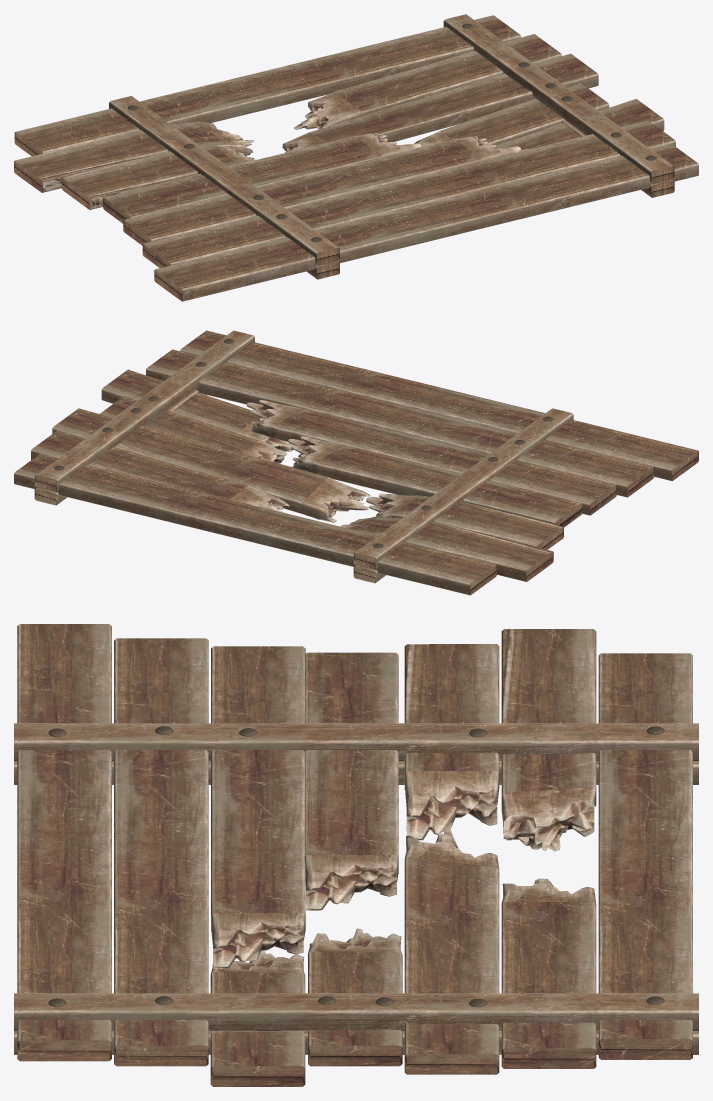
3 renders of one model, top to bottom at view 1: azimuth 30°, elevation 25°; view 2: azimuth 150°, elevation 25°; view 3: azimuth 270°, elevation 25°, orthographic. The views are drawn at different scales.
Parts seen in each view (by area): view 1: SM_BrokenWood_Platform_01_LOD0; view 2: SM_BrokenWood_Platform_01_LOD0; view 3: SM_BrokenWood_Platform_01_LOD0.
Boxes of the visible parts, <box> form: SM_BrokenWood_Platform_01_LOD0: <box>14,14,698,301</box>; SM_BrokenWood_Platform_01_LOD0: <box>14,330,698,595</box>; SM_BrokenWood_Platform_01_LOD0: <box>14,624,698,1086</box>.
Size of the model in its own units: 6.02 by 0.4425 by 4.
2 materials, 2 textured.
